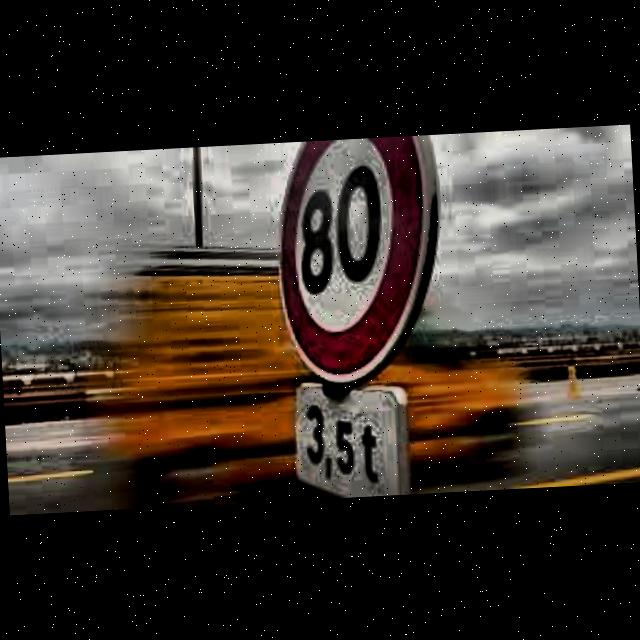speed_80: (273, 136, 447, 387)
